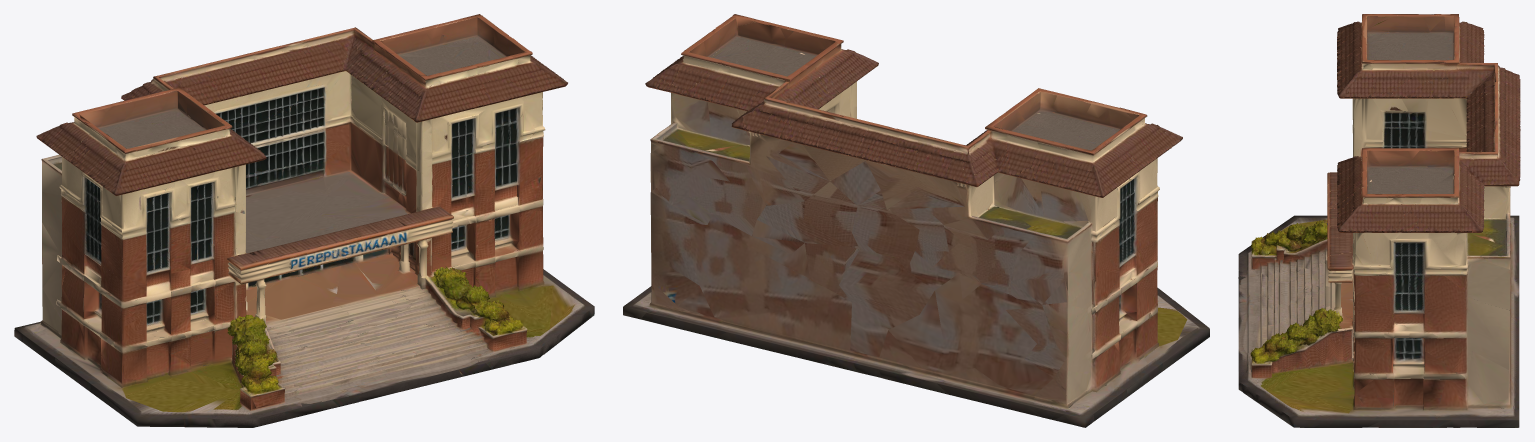
Rendered from library.glb.
3 renders of one model, left to right at view 1: azimuth 30°, elevation 25°; view 2: azimuth 150°, elevation 25°; view 3: azimuth 270°, elevation 25°, orthographic. The views are drawn at different scales.
Parts seen in each view (by area): view 1: Meshy_AI_Perpustakaan_Megah_0814061019_texture.001; view 2: Meshy_AI_Perpustakaan_Megah_0814061019_texture.001; view 3: Meshy_AI_Perpustakaan_Megah_0814061019_texture.001.
Boxes of the visible parts, x1,y1,x2,y2 form: Meshy_AI_Perpustakaan_Megah_0814061019_texture.001: (14, 14, 594, 427); Meshy_AI_Perpustakaan_Megah_0814061019_texture.001: (623, 14, 1209, 427); Meshy_AI_Perpustakaan_Megah_0814061019_texture.001: (1238, 14, 1520, 427).
Bounding box in the file's own units: 1.9 × 0.9607 × 1.11.
Materials: 1 (1 with a texture image).
